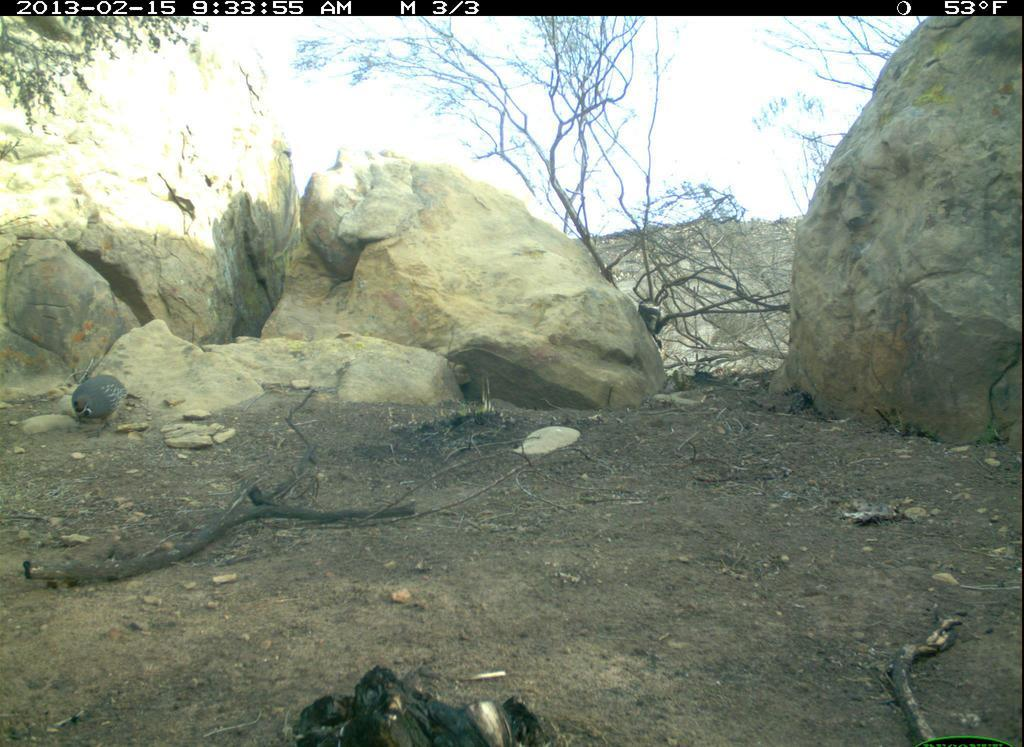bird: (72, 368, 130, 429)
